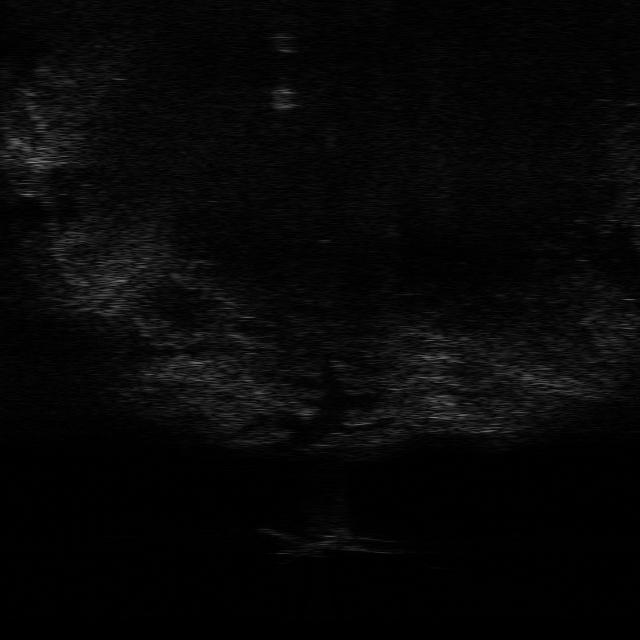plane: (258, 524, 402, 556)
